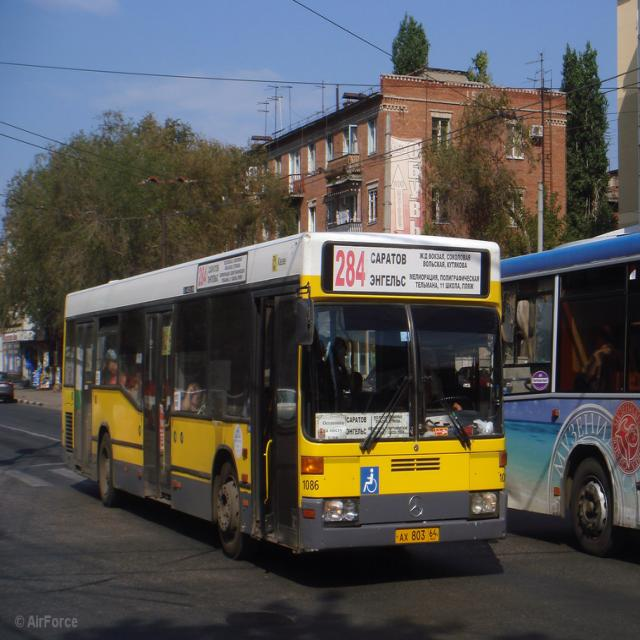number-of-bus: (335, 246, 369, 292)
